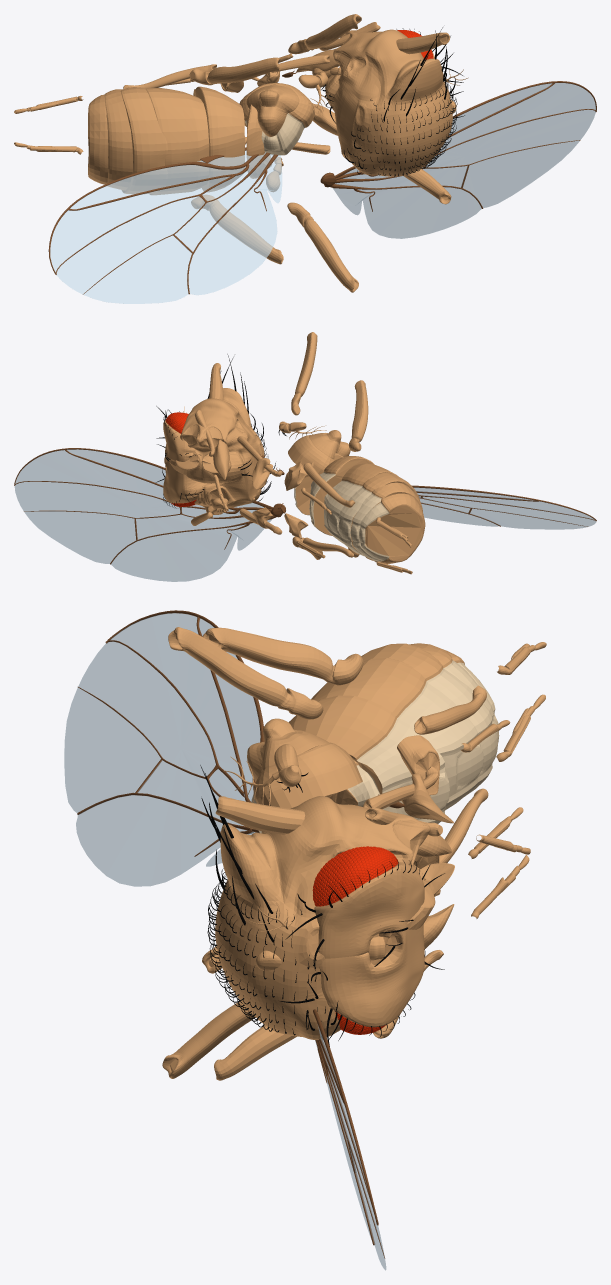
Rendered from nmf_fly.glb.
3 renders of one model, top to bottom at view 1: azimuth 30°, elevation 25°; view 2: azimuth 150°, elevation 25°; view 3: azimuth 270°, elevation 25°, orthographic. The views are drawn at different scales.
Parts seen in each view (by area): view 1: wing_right_membrane, wing_left_membrane, thorax, abdomen_3, abdomen_4, abdomen_2, wing_right_brown, wing_left_brown, abdomen_5, thorax_black, abdomen_8, abdomen_6 (+13 smaller); view 2: wing_left_membrane, thorax, wing_right_membrane, abdomen_6, wing_left_brown, head, wing_right_brown, abdomen_2, abdomen_3_lower, abdomen_7, femur_T3_left, femur_T2_left (+18 smaller); view 3: wing_right_membrane, thorax, head, femur_T3_left, abdomen_2, abdomen_7, femur_T2_left, abdomen_3_lower, thorax_black, head_red, abdomen_3, wing_right_brown (+16 smaller).
Boxes of the visible parts, <box> form: wing_right_membrane: <box>50,150,282,303</box>; wing_left_membrane: <box>333,83,595,238</box>; thorax: <box>325,29,452,176</box>; abdomen_3: <box>145,88,209,194</box>; abdomen_4: <box>120,87,167,193</box>; abdomen_2: <box>193,86,244,191</box>; wing_right_brown: <box>48,147,277,294</box>; wing_left_brown: <box>320,81,596,211</box>; abdomen_5: <box>104,89,132,189</box>; thorax_black: <box>322,27,457,176</box>; abdomen_8: <box>246,85,299,136</box>; abdomen_6: <box>88,94,108,184</box>; wing_left_membrane: <box>14,449,272,581</box>; thorax: <box>169,388,264,514</box>; wing_right_membrane: <box>414,487,595,529</box>; abdomen_6: <box>365,493,425,563</box>; wing_left_brown: <box>14,448,285,564</box>; head: <box>163,420,207,503</box>; wing_right_brown: <box>411,485,596,526</box>; abdomen_2: <box>313,456,374,537</box>; abdomen_3_lower: <box>324,480,362,543</box>; abdomen_7: <box>288,435,334,474</box>; femur_T3_left: <box>349,380,368,451</box>; femur_T2_left: <box>291,332,317,415</box>; wing_right_membrane: <box>64,613,260,886</box>; thorax: <box>215,796,435,1039</box>; head: <box>314,862,424,1027</box>; femur_T3_left: <box>202,627,363,685</box>; abdomen_2: <box>288,695,396,794</box>; abdomen_7: <box>253,742,362,833</box>; femur_T2_left: <box>168,627,323,719</box>; abdomen_3_lower: <box>398,681,483,810</box>; thorax_black: <box>200,765,413,1038</box>; head_red: <box>312,846,398,1034</box>; abdomen_3: <box>311,658,426,717</box>; wing_right_brown: <box>77,610,264,856</box>.
Bounding box in the file's own units: 0.5477 × 0.2453 × 0.222.
